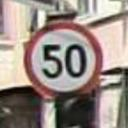speed_limit_50: (25, 21, 103, 99)
